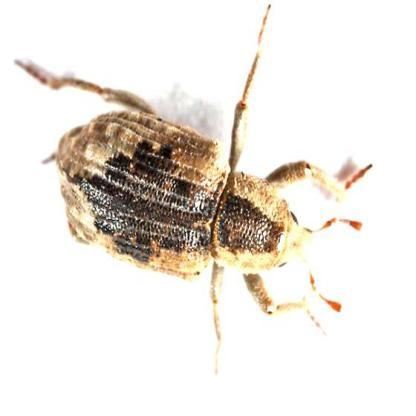rice-bug: (52, 88, 346, 298)
